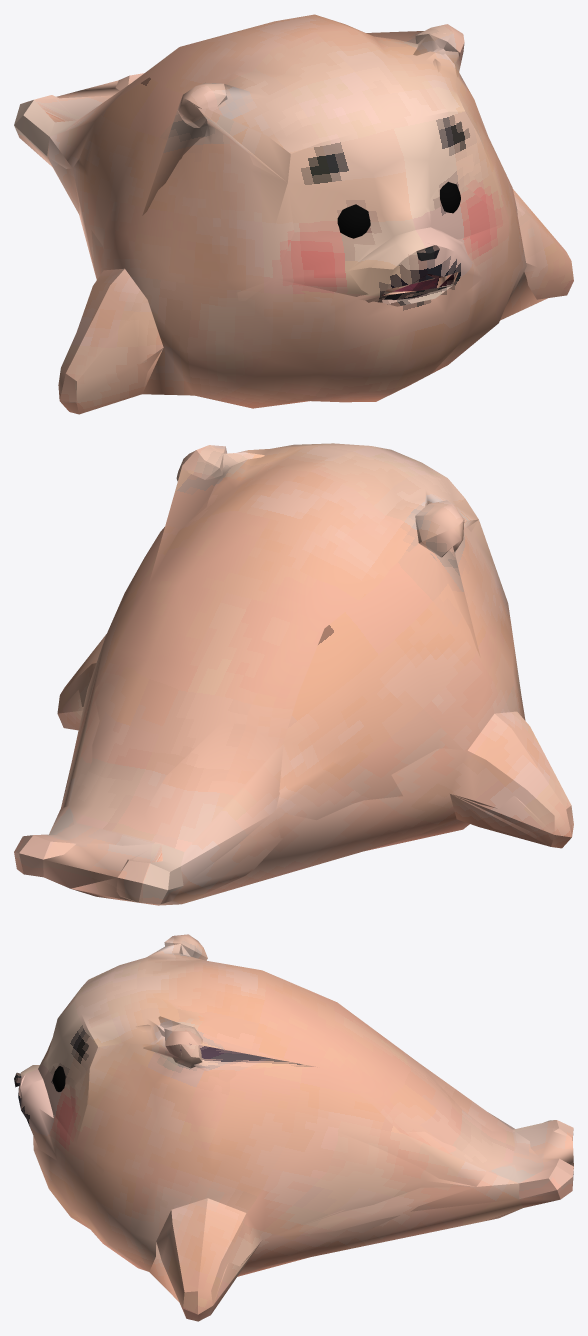
Rendered from item_squishy_cutie.glb.
The picture shows the model from 3 angles, top to bottom: view 1: azimuth 30°, elevation 25°; view 2: azimuth 150°, elevation 25°; view 3: azimuth 270°, elevation 25°; orthographic projection. The views are drawn at different scales.
Parts seen in each view (by area): view 1: toy_cutie; view 2: toy_cutie; view 3: toy_cutie.
Part boxes in pixels (bbox=[...]): toy_cutie: bbox=[14, 14, 573, 414]; toy_cutie: bbox=[14, 443, 573, 905]; toy_cutie: bbox=[14, 934, 573, 1321].
Size of the model in its own units: 0.1704 by 0.1111 by 0.2011.
1 material, 1 textured.
